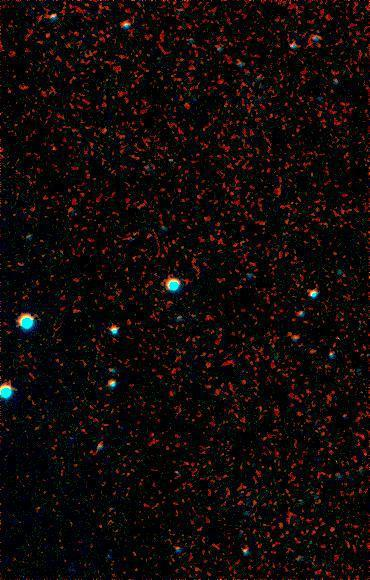star: (90, 116, 120, 146)
